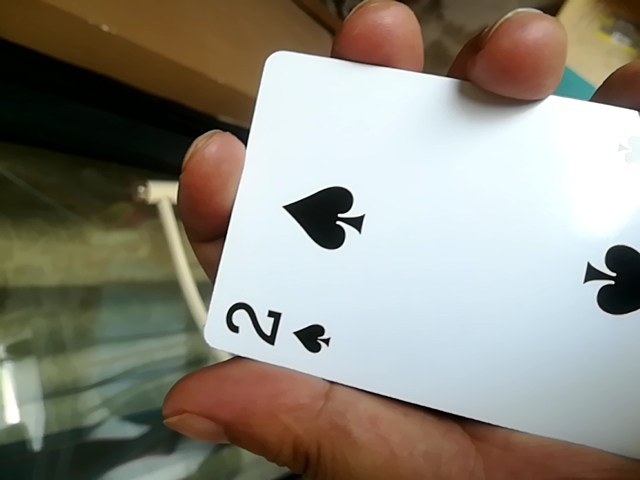ht 2: (182, 52, 633, 457)
